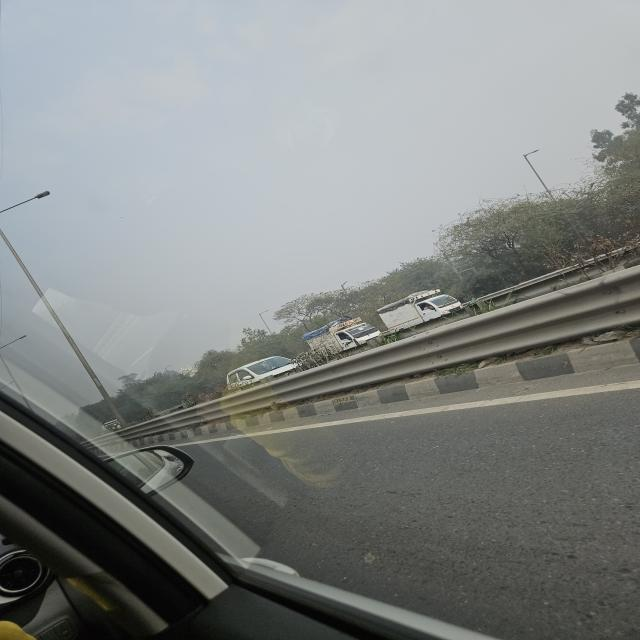uncovered: (370, 298, 468, 332), (298, 320, 380, 350)
